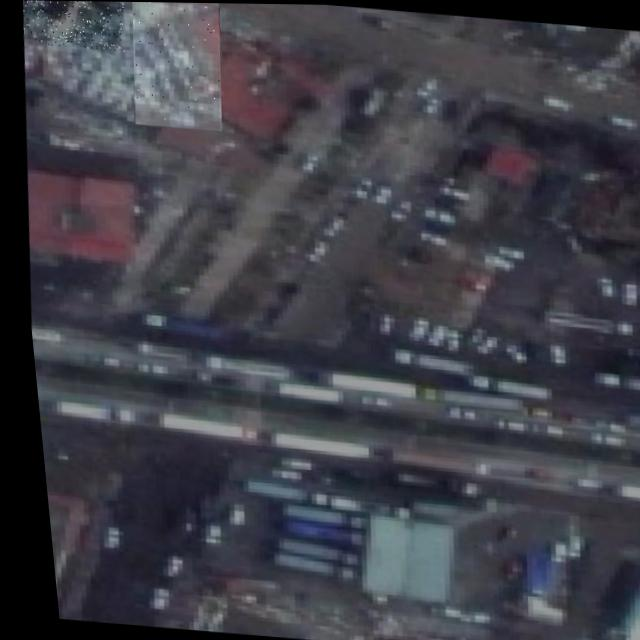Rubble: (122, 1, 227, 131), (18, 0, 126, 50)
